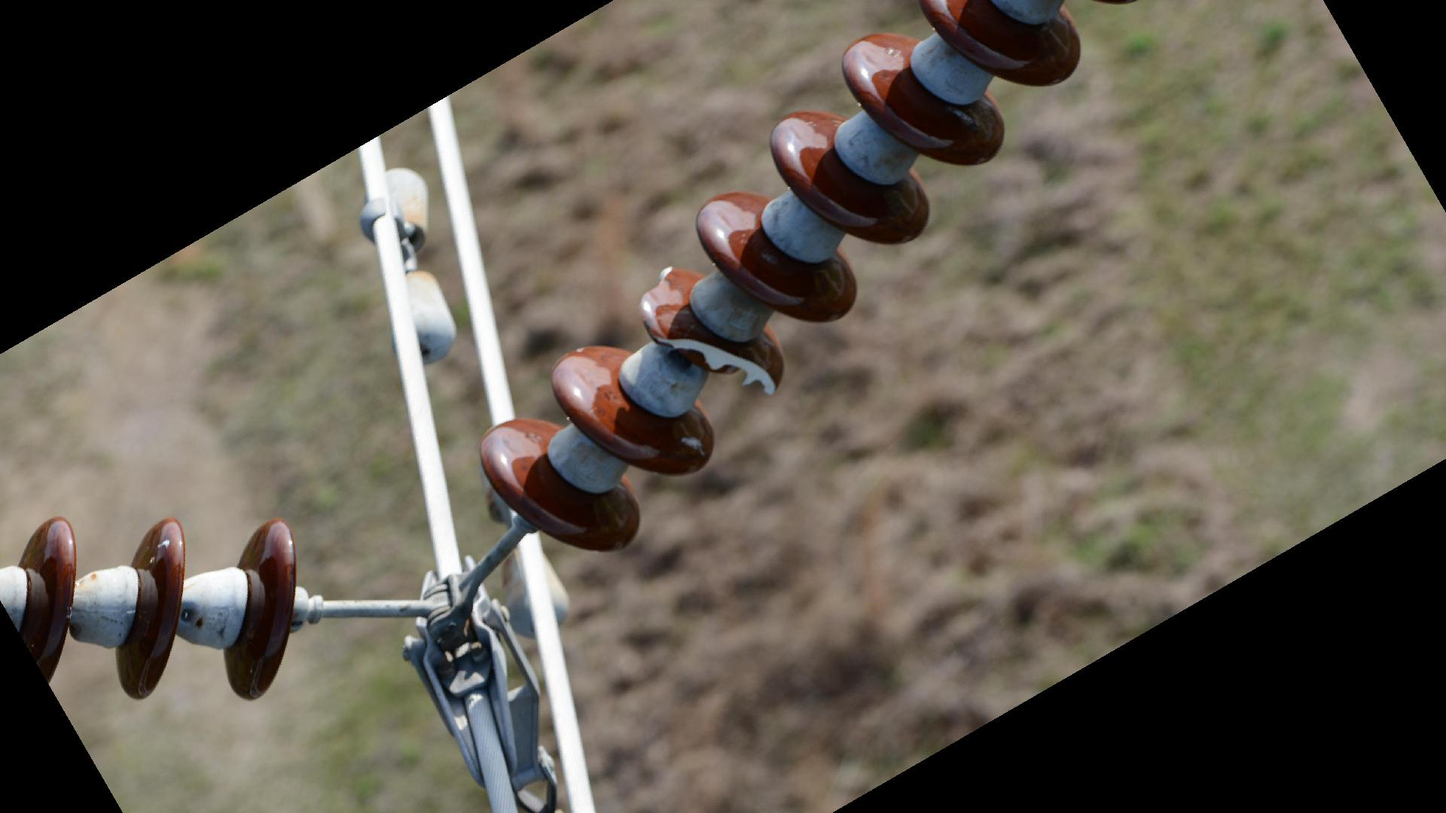insulator: (475, 1, 1088, 558), (1, 504, 306, 706)
insulator_breakage: (646, 327, 784, 402), (636, 260, 681, 312)
